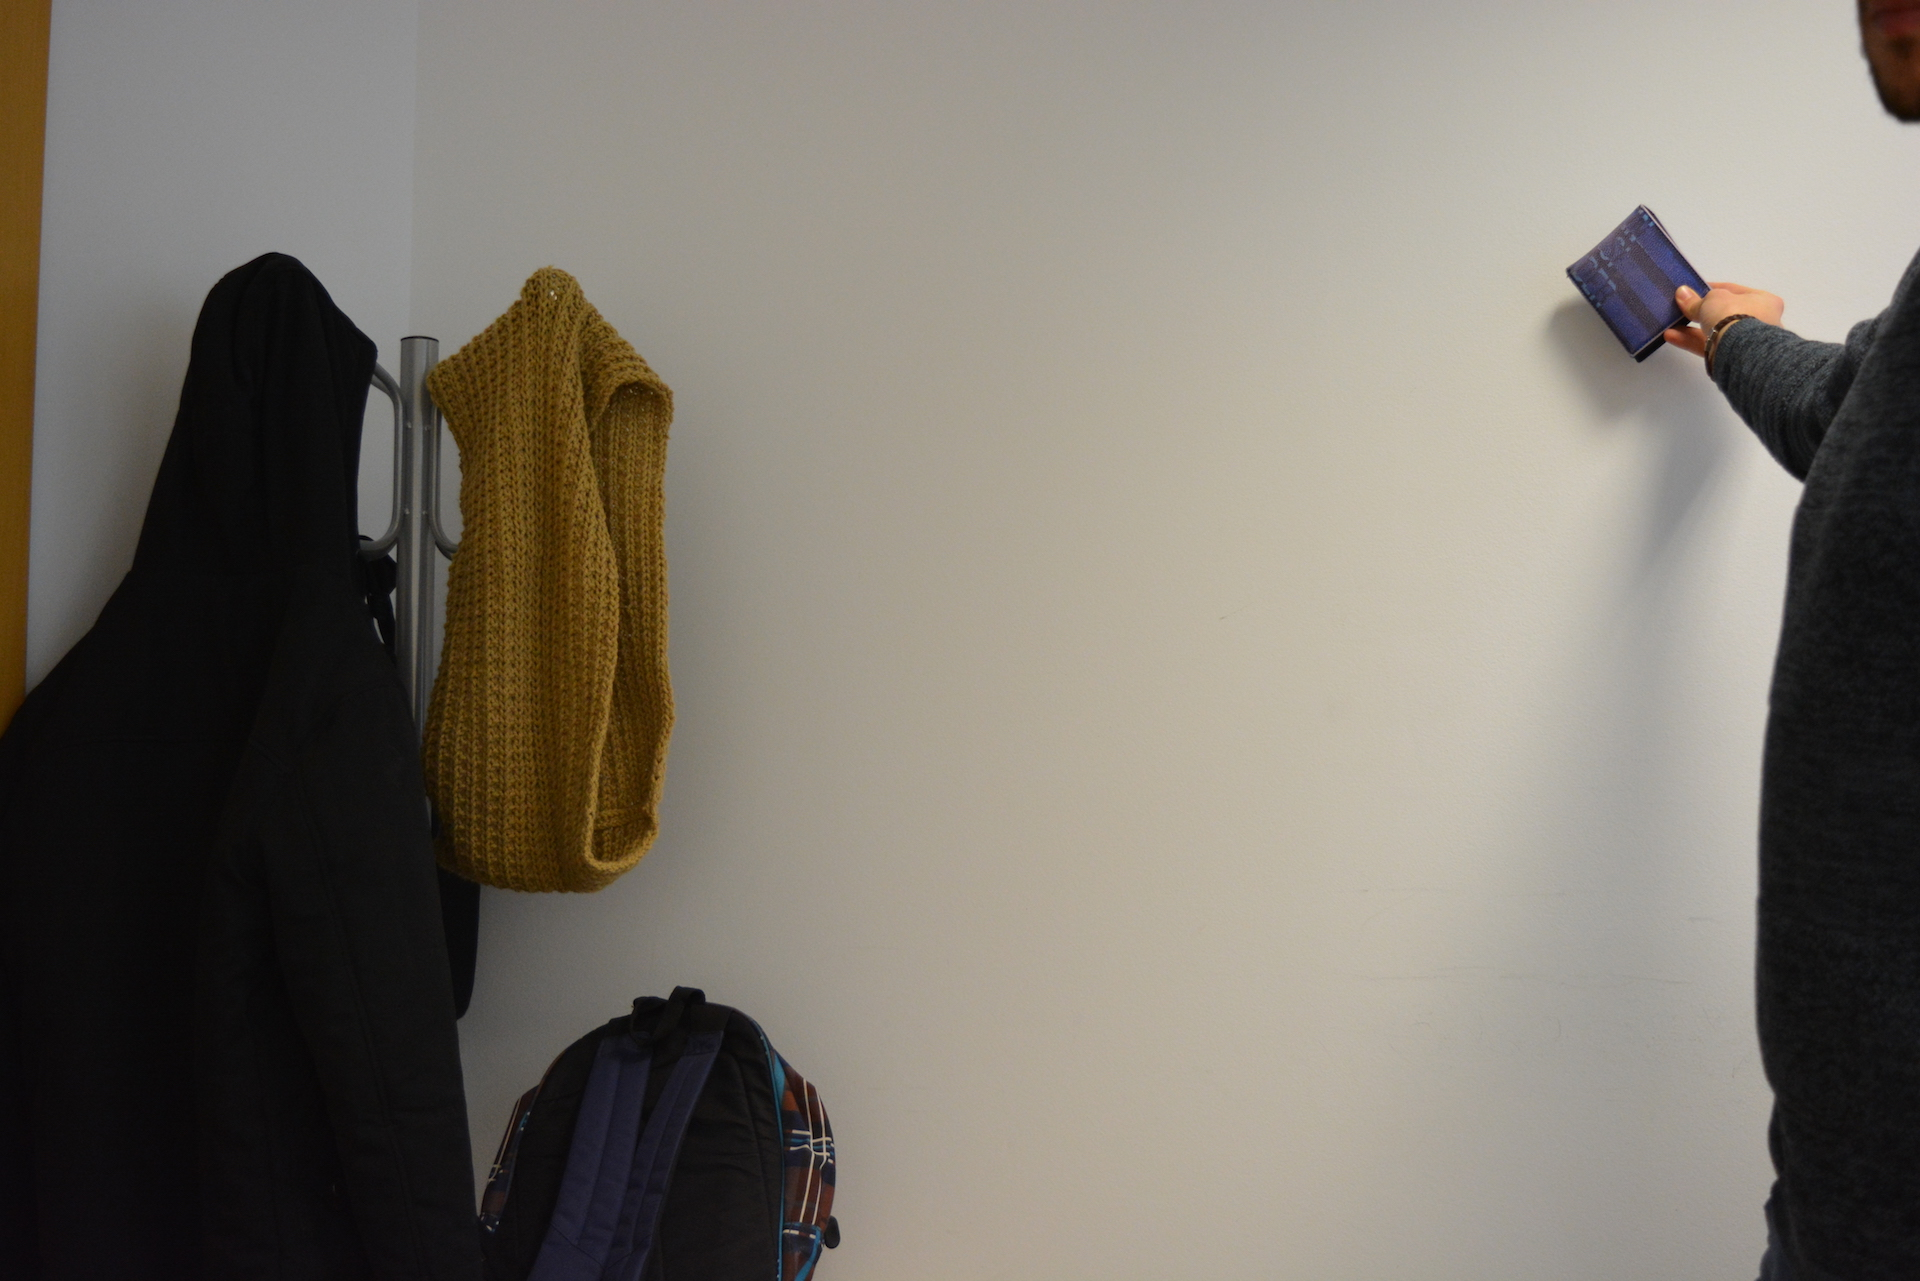monedero: (1564, 203, 1714, 365)
